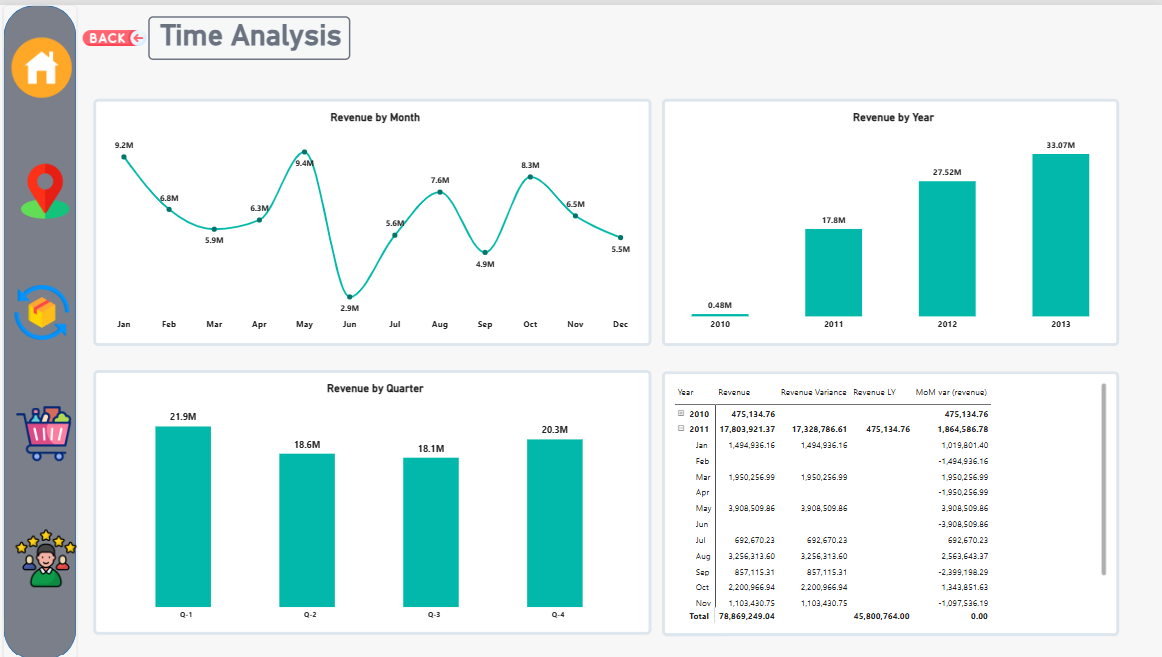

This screenshot's page, from the dashboard's own definition file:
{"tool":"powerbi","page":{"name":"Time Analysis","canvas":[1920,1080],"ordinal":3},"visuals":[{"type":"lineChart","title":"Revenue by Month ","fields":{"Category":["Calendar.Month Name"],"Y":["Calculations.Revenue"]},"box":[159.3,153.8,919.3,407.2],"z":0},{"type":"columnChart","fields":{"Category":["Calendar.Quarter"],"Y":["Calculations.Revenue"]},"box":[159.3,600.8,919.3,436.1],"z":1000},{"type":"columnChart","fields":{"Category":["Calendar.Year"],"Y":["Calculations.Revenue"]},"box":[1094.8,153.8,752.8,407.2],"z":2000},{"type":"pivotTable","fields":{"Rows":["Calendar.Year","Calendar.Month Name"],"Values":["Calculations.Revenue","Var Measures.Revenue Variance","Var Measures.Revenue LY","Calculations.MoM var (revenue)"]},"box":[1094.8,602.6,753,436],"z":3000},{"type":"textbox","title":"Time Analysis","box":[249.7,18.1,333,72.4],"z":4000},{"type":"shape","box":[10.9,0,121.2,1080.4],"z":5000},{"type":"image","box":[10.9,54.3,126.7,99.5],"z":5001},{"type":"image","box":[19.9,262.4,117.6,90.5],"z":5002},{"type":"image","box":[10.9,461.5,126.7,90.5],"z":5003},{"type":"image","box":[16.3,660.5,121.2,90.5],"z":5004},{"type":"image","box":[25.3,859.6,112.2,101.3],"z":5005},{"type":"image","box":[79.6,1.8,226.2,105],"z":5006}]}

Visuals, with their boxes on the page's 1920x1080 design canvas (x1, y1, x2, y2). These are canvas units, not pixel positions in the 1162x657 screenshot, which may show the page scaled, cropped or inside an application window:
"Revenue by Month " lineChart: 159:154:1079:561
columnChart - Calendar.Quarter x Calculations.Revenue: 159:601:1079:1037
columnChart - Calendar.Year x Calculations.Revenue: 1095:154:1848:561
pivotTable - Calendar.Year x Calendar.Month Name: 1095:603:1848:1039
"Time Analysis" textbox: 250:18:583:90
shape: 11:0:132:1080
image: 11:54:138:154
image: 20:262:138:353
image: 11:462:138:552
image: 16:660:138:751
image: 25:860:138:961
image: 80:2:306:107
